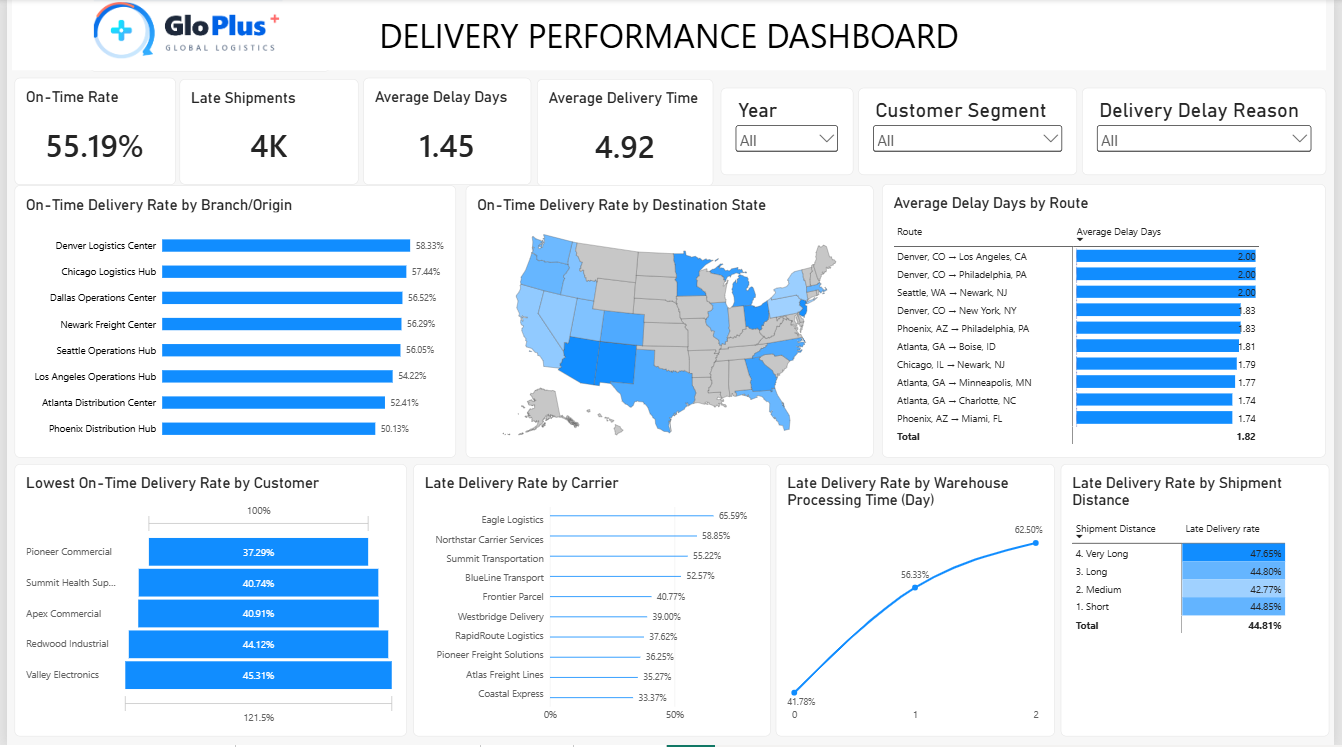

What the dashboard file says about the page in this screenshot:
{"tool":"powerbi","page":{"name":"Delivery Performance Dashboard","canvas":[1920,1080],"ordinal":0},"visuals":[{"type":"image","box":[119.2,1.8,348.9,103.1],"z":0,"group":"g1"},{"type":"cardVisual","title":"On-Time Rate","fields":{"Data":["Measure.On-Time Delivery Rate"]},"box":[10,114.6,233.3,154.8],"z":0,"group":"g2"},{"type":"textbox","box":[7.2,0,1902.4,103.1],"z":1000,"group":"g1"},{"type":"cardVisual","title":"Average Delivery Time","fields":{"Data":["Measure.Average Delivery Time"]},"box":[766.8,115,255.1,155],"z":1000,"group":"g2"},{"type":"image","box":[112.7,2,300.1,100],"z":2000,"group":"g1"},{"type":"cardVisual","title":"Late Shipments","fields":{"Data":["Measure.Number of Late Shipment"]},"box":[249.4,116.6,259.5,152.8],"z":2000,"group":"g2"},{"type":"cardVisual","title":"Average Delay Days","fields":{"Data":["Measure.Average Delay Days"]},"box":[514.9,114.6,243.4,154.8],"z":3000,"group":"g2"},{"type":"barChart","fields":{"Y":["Measure.On-Time Delivery Rate"],"Category":["Cleaned_dataset.Branch/Origin"]},"box":[10.8,269.6,639,394.5],"z":4000,"group":"g2"},{"type":"funnel","title":"Lowest On-Time Delivery Rate by Customer ","fields":{"Category":["Cleaned_dataset.Customer Name"],"Y":["Measure.On-Time Delivery Rate"]},"box":[10.8,673.1,568.4,394.5],"z":5000,"group":"g2"},{"type":"lineChart","title":"Late Delivery Rate by Warehouse Processing Time (Day)","fields":{"Category":["Cleaned_dataset.Warehouse Processing Time"],"Y":["Measure.Late Delivery rate"]},"box":[1113.2,673.2,403.6,394.5],"z":6000,"group":"g2"},{"type":"pivotTable","title":"Average Delay Days by Route","fields":{"Rows":["Cleaned_dataset.Route"],"Values":["Measure.Average Delay Days"]},"box":[1267,267.8,642.6,396.3],"z":7000,"group":"g2"},{"type":"clusteredBarChart","title":"Late Delivery Rate by Carrier","fields":{"Category":["Cleaned_dataset.Carrier Name Clean"],"Y":["Measure.Late Delivery rate"],"Series":["Cleaned_dataset.Carrier Name Clean"]},"box":[588.2,672.9,517.7,394.5],"z":8000,"group":"g2"},{"type":"pivotTable","title":"Late Delivery Rate by Shipment Distance","fields":{"Rows":["Cleaned_dataset.Shipment Distance"],"Values":["Measure.Late Delivery rate"]},"box":[1525.4,673.1,389.2,394.5],"z":9000,"group":"g2"},{"type":"slicer","fields":{"Values":["Cleaned_dataset.Actual Delivery Date.Variation.Date Hierarchy.Year"]},"box":[1033.5,128.3,191.7,126.7],"z":10000,"group":"g2"},{"type":"shapeMap","fields":{"Category":["Cleaned_dataset.Destination State"],"Value":["Measure.On-Time Delivery Rate"]},"box":[664.3,269.6,590.1,394.5],"z":11000,"group":"g2"},{"type":"slicer","fields":{"Values":["Cleaned_dataset.Customer Segment Clean"]},"box":[1232.6,128.4,316.8,126.7],"z":13000,"group":"g2"},{"type":"slicer","fields":{"Values":["Cleaned_dataset.Delivery Delay Reason"]},"box":[1557,128.3,353.4,126.7],"z":14000,"group":"g2"},{"type":"group","id":"g1","title":"Group 1","box":[7.2,0,1902.4,104.9],"z":15001,"group":"g2"},{"type":"group","id":"g2","title":"Group 2","box":[7.2,0,1907.4,1067.7],"z":15002}]}

Visuals, with their boxes in screenshot pixels (x1, y1, x2, y2), scaled from the page's 1920x1080 canvas onto the 1342x747 screenshot:
image: box(83, 1, 327, 73)
"On-Time Rate" cardVisual: box(7, 79, 170, 186)
textbox: box(5, 0, 1335, 71)
"Average Delivery Time" cardVisual: box(536, 80, 714, 187)
image: box(79, 1, 289, 71)
"Late Shipments" cardVisual: box(174, 81, 356, 186)
"Average Delay Days" cardVisual: box(360, 79, 530, 186)
barChart - Measure.On-Time Delivery Rate x Cleaned_dataset.Branch/Origin: box(8, 186, 454, 459)
"Lowest On-Time Delivery Rate by Customer " funnel: box(8, 466, 405, 738)
"Late Delivery Rate by Warehouse Processing Time (Day)" lineChart: box(778, 466, 1060, 738)
"Average Delay Days by Route" pivotTable: box(886, 185, 1335, 459)
"Late Delivery Rate by Carrier" clusteredBarChart: box(411, 465, 773, 738)
"Late Delivery Rate by Shipment Distance" pivotTable: box(1066, 466, 1338, 738)
slicer - Cleaned_dataset.Actual Delivery Date.Variation.Date Hierarchy.Year: box(722, 89, 856, 176)
shapeMap - Cleaned_dataset.Destination State x Measure.On-Time Delivery Rate: box(464, 186, 877, 459)
slicer - Cleaned_dataset.Customer Segment Clean: box(862, 89, 1083, 176)
slicer - Cleaned_dataset.Delivery Delay Reason: box(1088, 89, 1335, 176)
"Group 1" group: box(5, 0, 1335, 73)
"Group 2" group: box(5, 0, 1338, 738)
